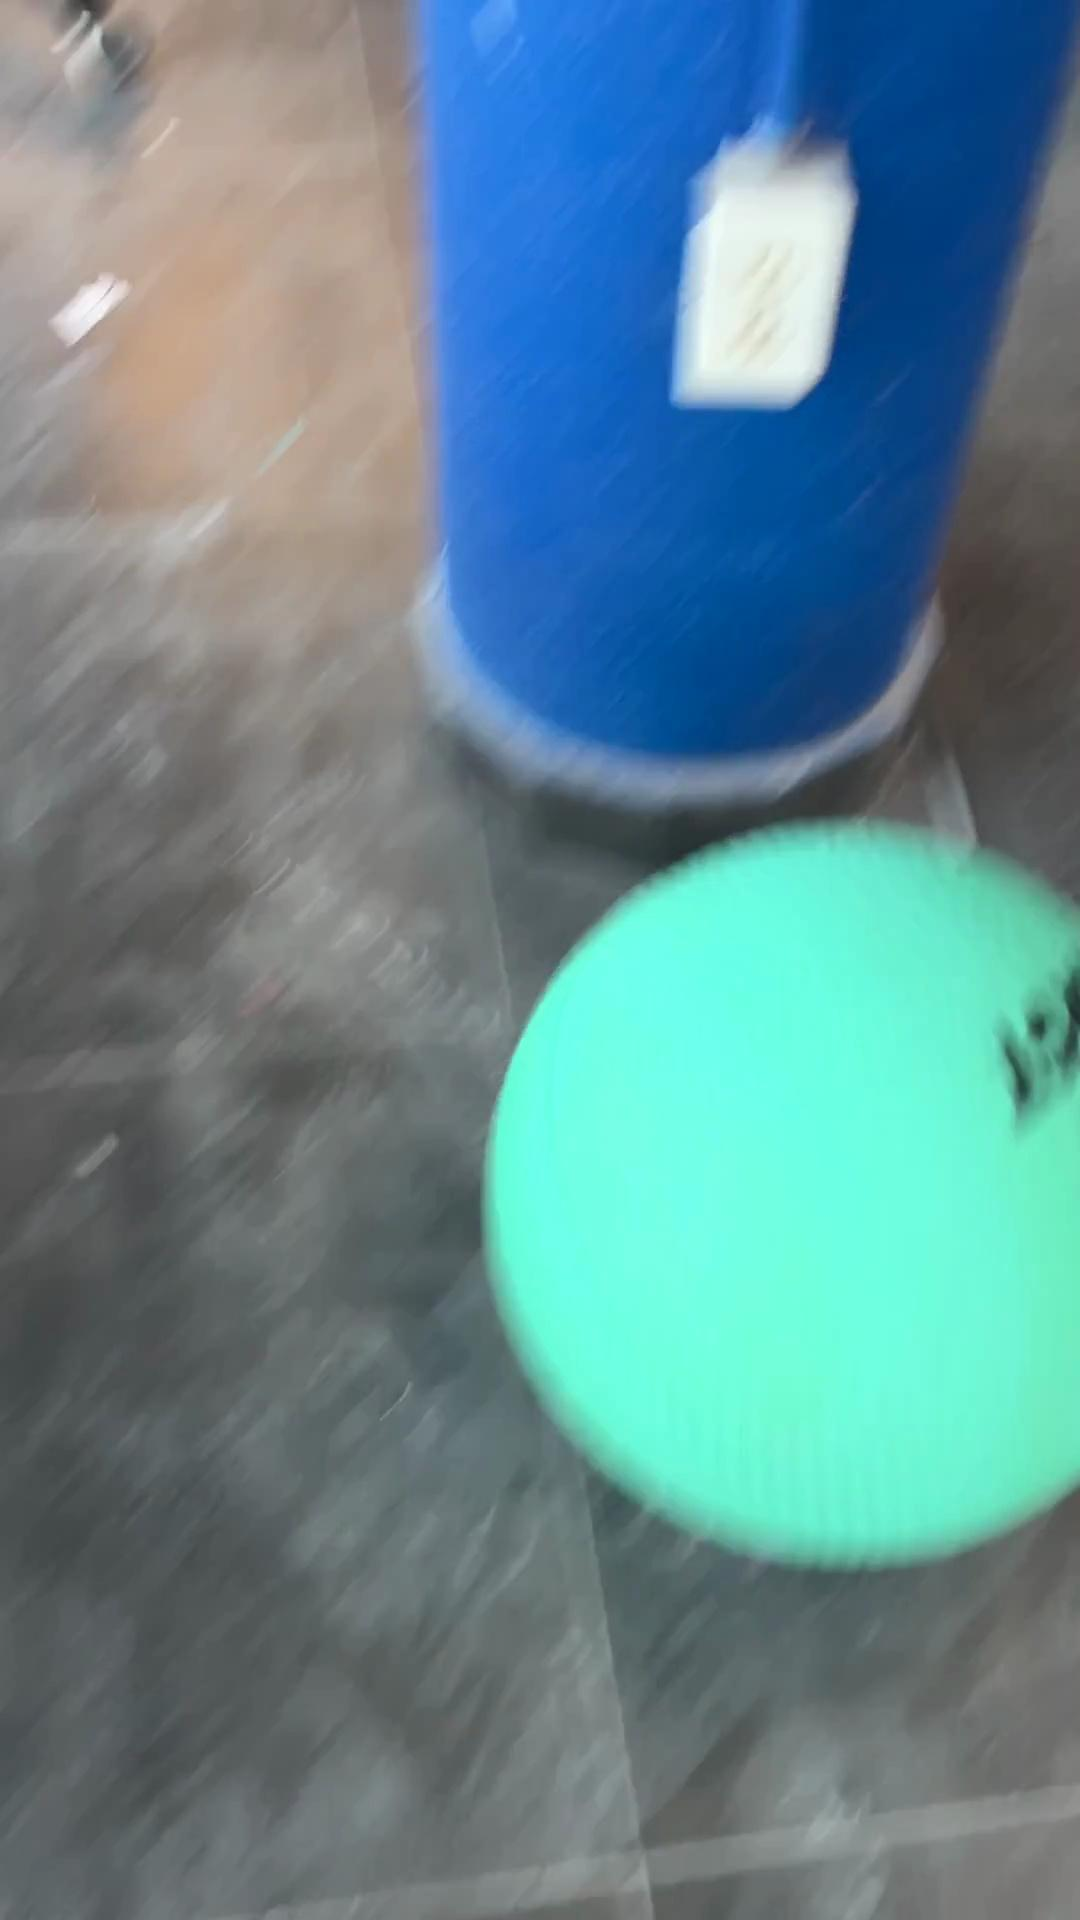ALGAE: (477, 814, 1077, 1572)
